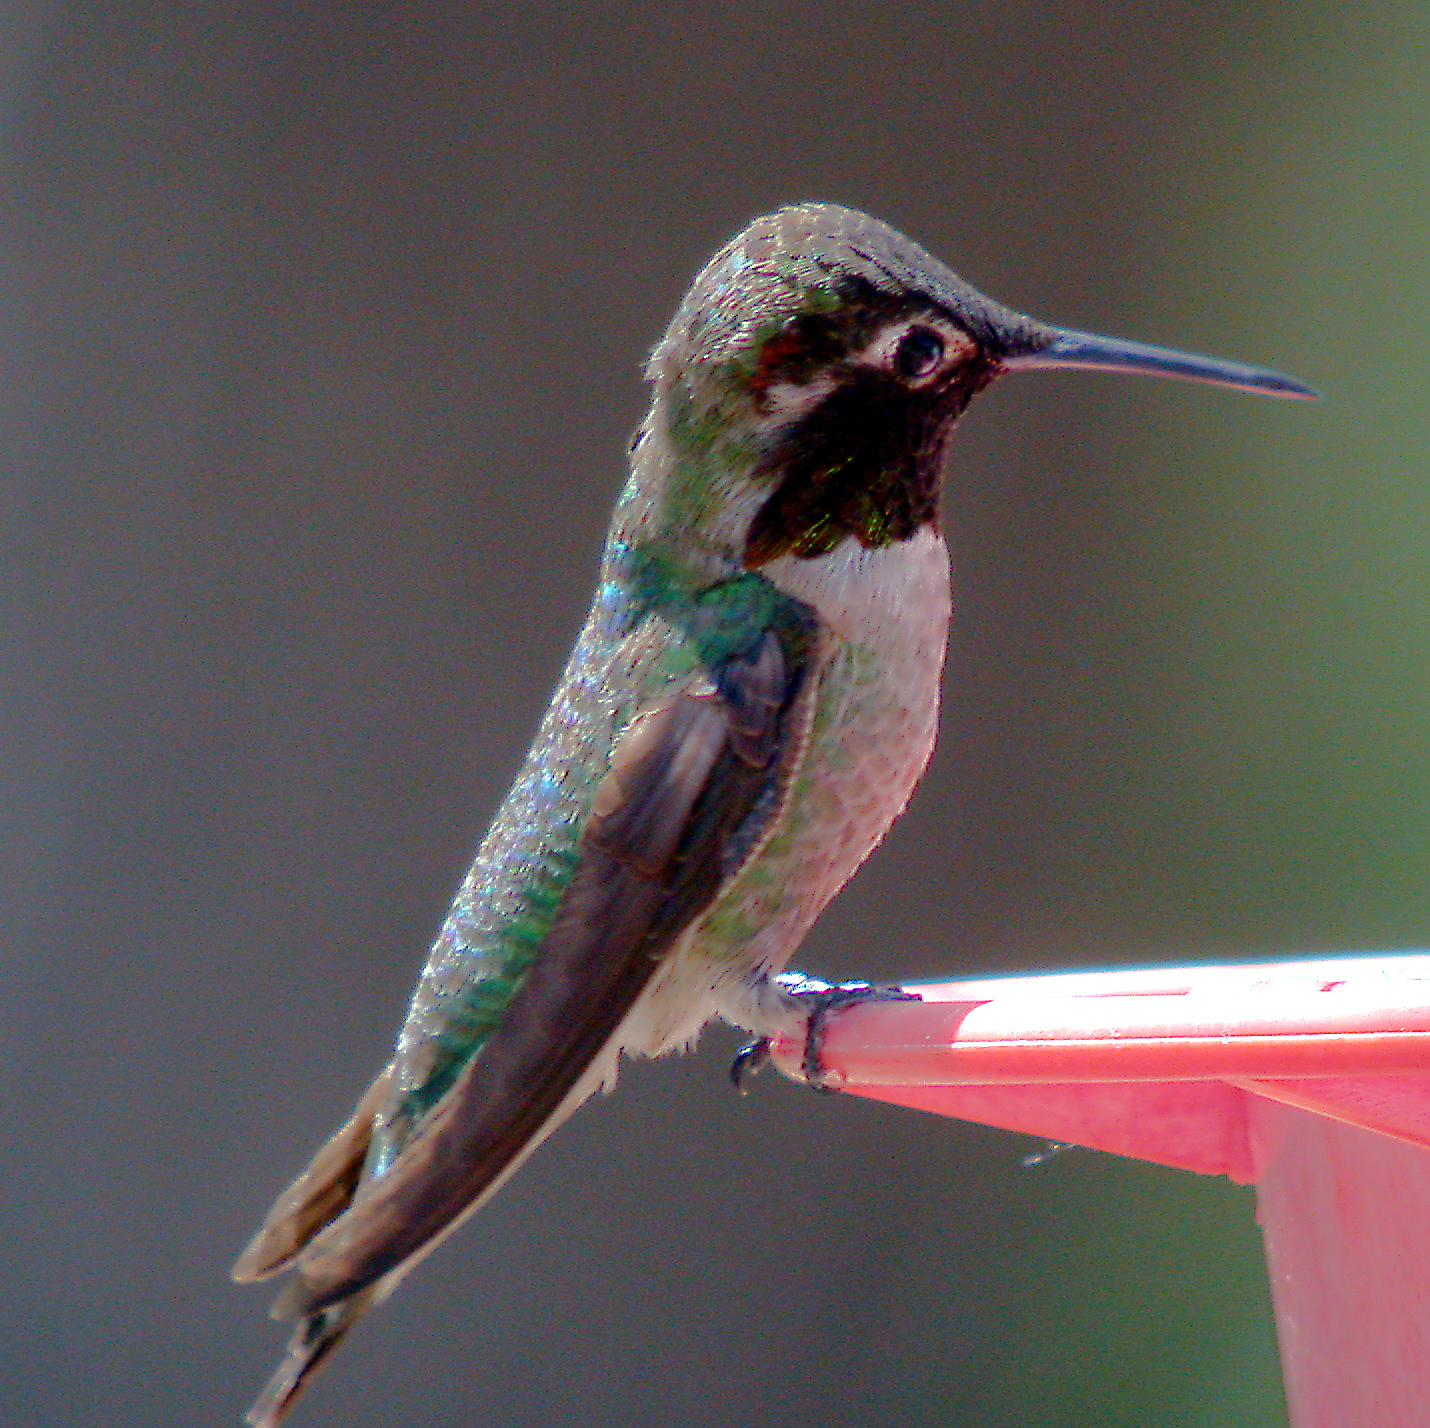archilochus alexandri: (220, 204, 1318, 1410)
